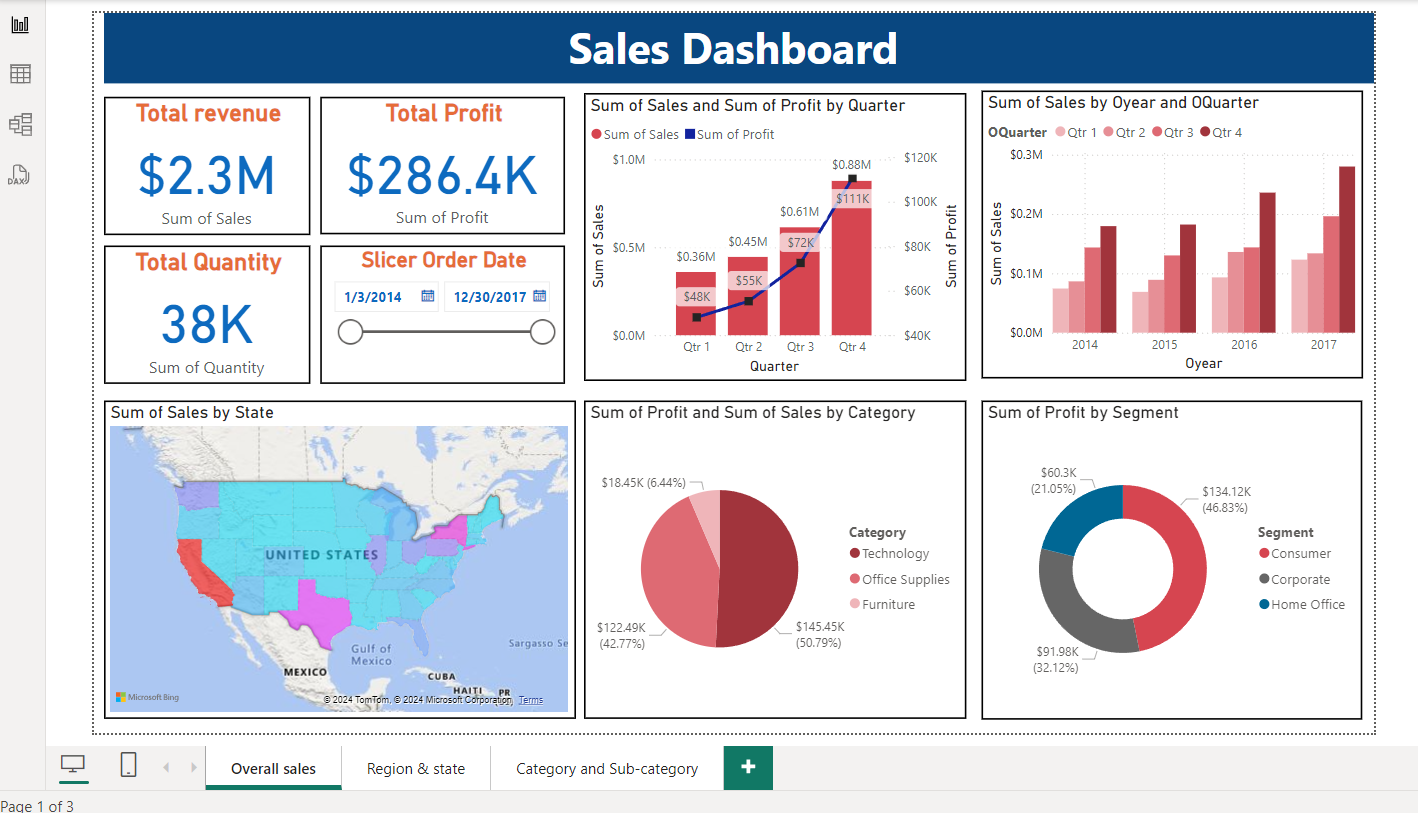

Layout of this report page (visuals, bound fields, positions):
{"tool":"powerbi","page":{"name":"Overall sales","canvas":[1280,720],"ordinal":0},"visuals":[{"type":"textbox","box":[10,0,1270.3,70],"z":0},{"type":"card","title":"Total revenue ","fields":{"Values":["Sum(Superstore.Sales)"]},"box":[9.7,83.2,206.3,138.7],"z":1000},{"type":"card","title":"Total Quantity ","fields":{"Values":["Sum(Superstore.Quantity)"]},"box":[9.7,232.8,206.3,138.7],"z":2000},{"type":"card","title":"Total Profit","fields":{"Values":["Sum(Superstore.Profit)"]},"box":[226.8,83.2,244.9,137.5],"z":3000},{"type":"slicer","title":"Slicer Order Date","fields":{"Values":["Superstore.Order Date"]},"box":[226.8,232.8,244.9,138.7],"z":4000},{"type":"lineStackedColumnComboChart","fields":{"Category":["Superstore.Order Date.Variation.Date Hierarchy.Year","Superstore.Order Date.Variation.Date Hierarchy.Quarter","Superstore.Order Date.Variation.Date Hierarchy.Month","Superstore.Order Date.Variation.Date Hierarchy.Day"],"Y2":["Sum(Superstore.Profit)"],"Y":["Sum(Superstore.Sales)"]},"box":[489.8,79.6,382.4,288.3],"z":5000},{"type":"clusteredColumnChart","fields":{"Category":["Superstore.Oyear"],"Y":["Sum(Superstore.Sales)"],"Series":["Superstore.OQuarter"]},"box":[887.9,77.2,381.2,288.3],"z":6000},{"type":"filledMap","fields":{"Category":["Superstore.State"]},"box":[9.7,387.3,471.7,318.5],"z":7000},{"type":"pieChart","fields":{"Category":["Superstore.Category"],"Y":["Sum(Superstore.Profit)"]},"box":[489.8,387.3,382.4,318.5],"z":8000},{"type":"donutChart","fields":{"Y":["Sum(Superstore.Profit)"],"Category":["Superstore.Segment"]},"box":[888,387,381,319],"z":9000}]}

Visuals, with their boxes on the page's 1280x720 design canvas (x1, y1, x2, y2). These are canvas units, not pixel positions in the 1418x813 screenshot, which may show the page scaled, cropped or inside an application window:
textbox: select_region(10, 0, 1280, 70)
"Total revenue " card: select_region(10, 83, 216, 222)
"Total Quantity " card: select_region(10, 233, 216, 372)
"Total Profit" card: select_region(227, 83, 472, 221)
"Slicer Order Date" slicer: select_region(227, 233, 472, 372)
lineStackedColumnComboChart - Superstore.Order Date.Variation.Date Hierarchy.Year x Superstore.Order Date.Variation.Date Hierarchy.Quarter: select_region(490, 80, 872, 368)
clusteredColumnChart - Superstore.Oyear x Sum(Superstore.Sales): select_region(888, 77, 1269, 366)
filledMap - Superstore.State: select_region(10, 387, 481, 706)
pieChart - Superstore.Category x Sum(Superstore.Profit): select_region(490, 387, 872, 706)
donutChart - Sum(Superstore.Profit) x Superstore.Segment: select_region(888, 387, 1269, 706)
